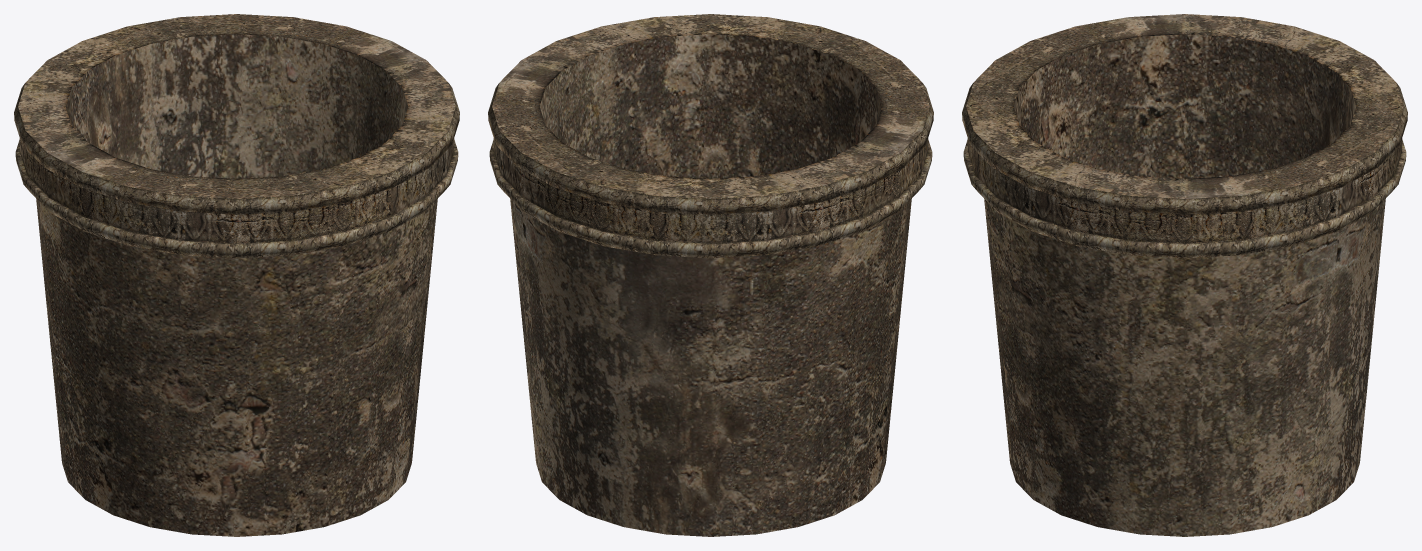
File: materials_5_pot_1.fbx
3 views of the same model, side by side, from view 1: azimuth 30°, elevation 25°; view 2: azimuth 150°, elevation 25°; view 3: azimuth 270°, elevation 25° (orthographic).
Parts seen in each view (by area): view 1: materials_5_pot_1; view 2: materials_5_pot_1; view 3: materials_5_pot_1.
Part boxes in pixels (box(x1,y1,x2,y2)): materials_5_pot_1: box(14, 14, 459, 536); materials_5_pot_1: box(488, 14, 933, 536); materials_5_pot_1: box(962, 14, 1407, 536).
Size of the model in its own units: 24.15 by 21.3 by 24.15.
